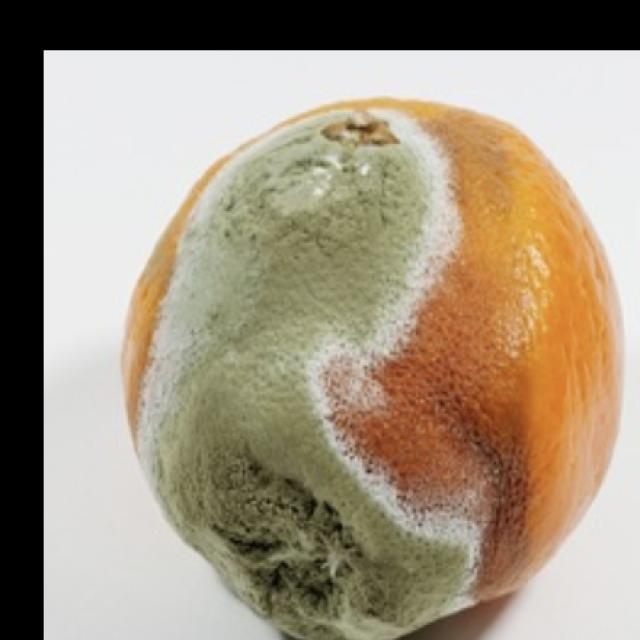sangat_busuk: (119, 92, 622, 640)
